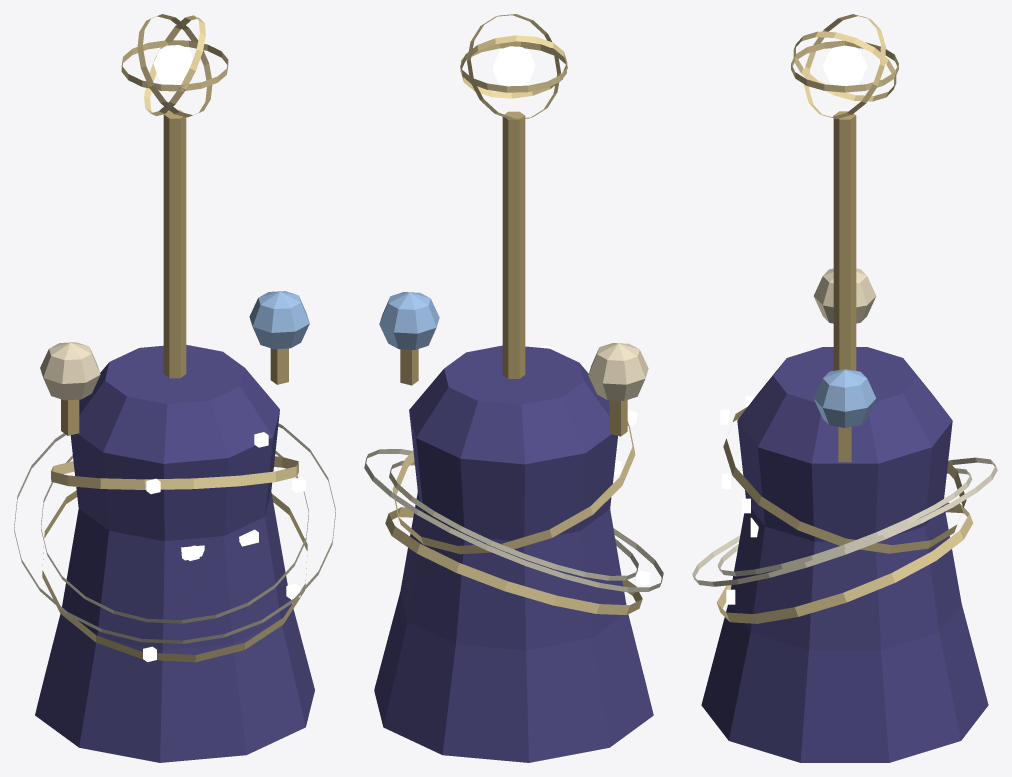
The model's file is the_astronomer.glb.
3 views of the same model, side by side, from view 1: azimuth 30°, elevation 25°; view 2: azimuth 150°, elevation 25°; view 3: azimuth 270°, elevation 25° (orthographic).
Parts seen in each view (by area): view 1: Torso, Weapon, Head, PauldronL, PauldronR; view 2: Torso, Weapon, Head, PauldronL, PauldronR; view 3: Torso, Weapon, Head, PauldronR, PauldronL.
Boxes of the visible parts, <box> form: Torso: <box>35,345,314,762</box>; Weapon: <box>121,14,228,378</box>; Head: <box>14,423,335,643</box>; PauldronL: <box>40,342,100,435</box>; PauldronR: <box>249,291,309,384</box>; Torso: <box>374,345,653,762</box>; Weapon: <box>460,14,567,378</box>; Head: <box>364,449,663,592</box>; PauldronL: <box>588,343,648,436</box>; PauldronR: <box>379,292,439,385</box>; Torso: <box>701,347,988,762</box>; Weapon: <box>791,14,898,370</box>; Head: <box>692,457,997,586</box>; PauldronR: <box>813,369,876,462</box>; PauldronL: <box>813,268,876,323</box>.
Size of the model in its own units: 0.7004 by 1.68 by 0.6805.
